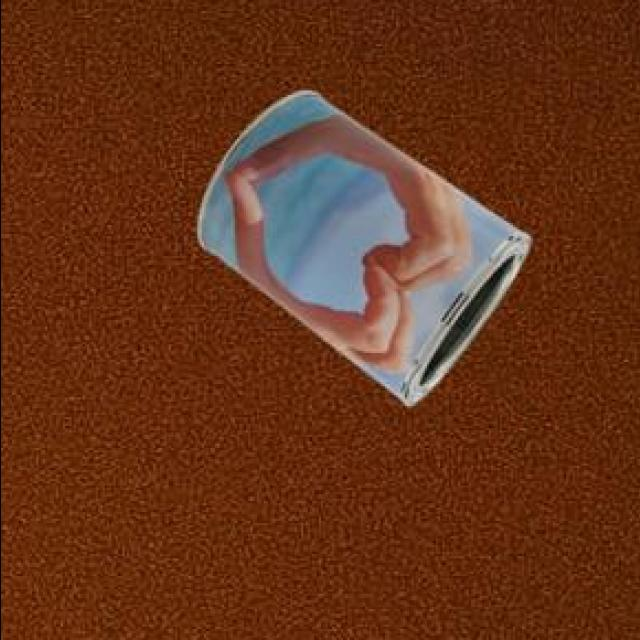logam: (193, 94, 526, 409)
